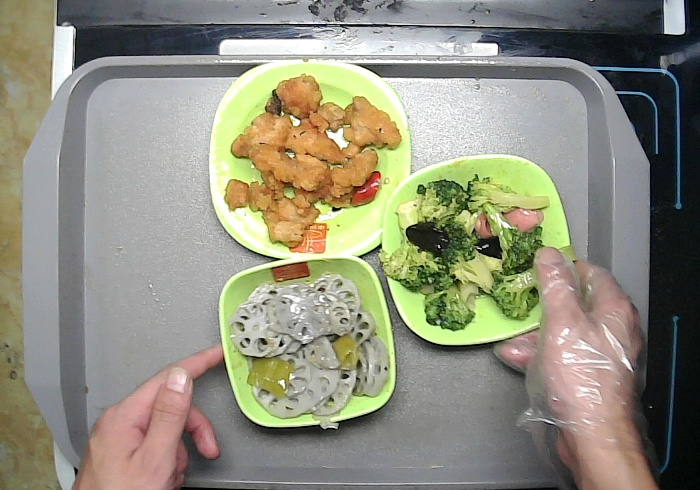SHKJ-Lv_Se_Cai_Die: (381, 154, 579, 346)
SHKJ-Lv_Se_Si_Fang_Cai_Die: (208, 58, 411, 262)
SHKJ-Lv_Se_Xiao_Fang_Die: (217, 253, 397, 427)
